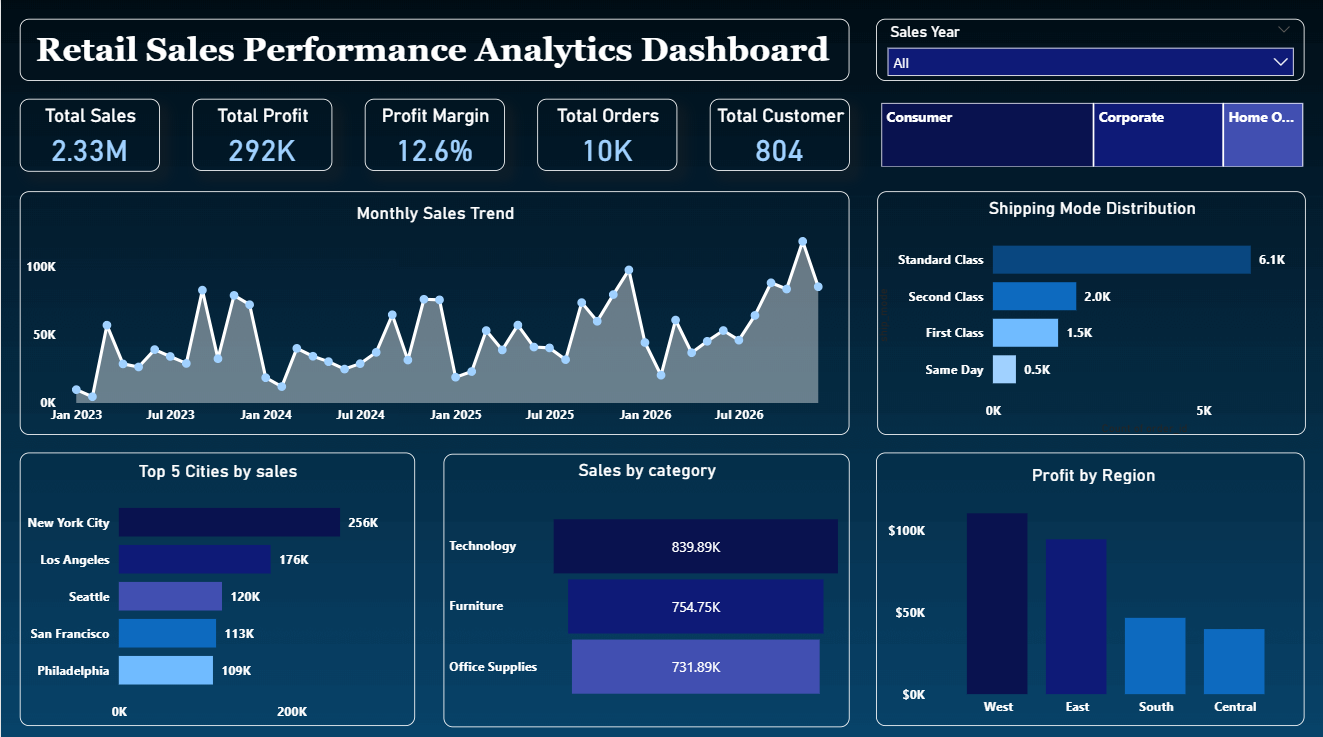

The dashboard page shown, as its layout file describes it:
{"tool":"powerbi","page":{"name":"Executive Overview","canvas":[1280,720],"ordinal":0},"visuals":[{"type":"card","title":"Total Sales","fields":{"Values":["All Measures.Total Sales"]},"box":[18.1,95.5,135,70],"z":0},{"type":"card","title":"Total Profit","fields":{"Values":["All Measures.Total Profit"]},"box":[184.6,95.3,135.1,70],"z":1000},{"type":"card","title":"Total Customer","fields":{"Values":["All Measures.Total Customer"]},"box":[684.1,95.3,135.1,70],"z":2000},{"type":"card","title":"Total Orders","fields":{"Values":["All Measures.Total Orders"]},"box":[517.6,95.3,135.1,70],"z":3000},{"type":"areaChart","title":"Monthly Sales Trend","fields":{"Category":["retail_cleaned_data.order_date.Variation.Date Hierarchy.Year","retail_cleaned_data.order_date.Variation.Date Hierarchy.Quarter","retail_cleaned_data.order_date.Variation.Date Hierarchy.Month"],"Y":["Sum(retail_cleaned_data.sales)"]},"box":[18.1,184.6,801.1,235.3],"z":4000},{"type":"columnChart","title":"Profit by Region","fields":{"Category":["retail_cleaned_data.region"],"Y":["All Measures.Total Profit"]},"box":[844.5,436.9,413.8,264.2],"z":5000},{"type":"card","title":"Profit Margin","fields":{"Values":["All Measures.Profit Margin"]},"box":[351.1,95.3,135.1,70],"z":6000},{"type":"barChart","title":"Shipping Mode Distribution","fields":{"Category":["retail_cleaned_data.ship_mode"],"Y":["CountNonNull(retail_cleaned_data.order_id)"]},"box":[845.7,184.6,413.8,235.3],"z":7000},{"type":"slicer","fields":{"Values":["retail_cleaned_data.Sales Year"]},"box":[844.1,18.1,413.8,60.3],"z":8000},{"type":"funnel","title":"Sales by category","fields":{"Y":["Sum(retail_cleaned_data.sales)"],"Category":["retail_cleaned_data.category"]},"box":[427.1,437.9,392.1,264.2],"z":9000},{"type":"barChart","title":"Top 5 Cities by sales","fields":{"Y":["Sum(retail_cleaned_data.sales)"],"Category":["retail_cleaned_data.city"]},"box":[18.1,436.7,381.2,264.2],"z":10000},{"type":"treemap","fields":{"Group":["retail_cleaned_data.segment"],"Values":["Sum(retail_cleaned_data.sales)"]},"box":[845.7,95.3,415,70],"z":11000},{"type":"textbox","box":[18.1,18.1,801.1,60.3],"z":12000}]}

Visuals, with their boxes in screenshot pixels (x1, y1, x2, y2), scaled from the page's 1280x720 canvas onto the 1323x737 screenshot:
"Total Sales" card: left=19, top=98, right=158, bottom=169
"Total Profit" card: left=191, top=98, right=330, bottom=169
"Total Customer" card: left=707, top=98, right=847, bottom=169
"Total Orders" card: left=535, top=98, right=675, bottom=169
"Monthly Sales Trend" areaChart: left=19, top=189, right=847, bottom=430
"Profit by Region" columnChart: left=873, top=447, right=1301, bottom=718
"Profit Margin" card: left=363, top=98, right=503, bottom=169
"Shipping Mode Distribution" barChart: left=874, top=189, right=1302, bottom=430
slicer - retail_cleaned_data.Sales Year: left=872, top=19, right=1300, bottom=80
"Sales by category" funnel: left=441, top=448, right=847, bottom=719
"Top 5 Cities by sales" barChart: left=19, top=447, right=413, bottom=717
treemap - retail_cleaned_data.segment x Sum(retail_cleaned_data.sales): left=874, top=98, right=1303, bottom=169
textbox: left=19, top=19, right=847, bottom=80
